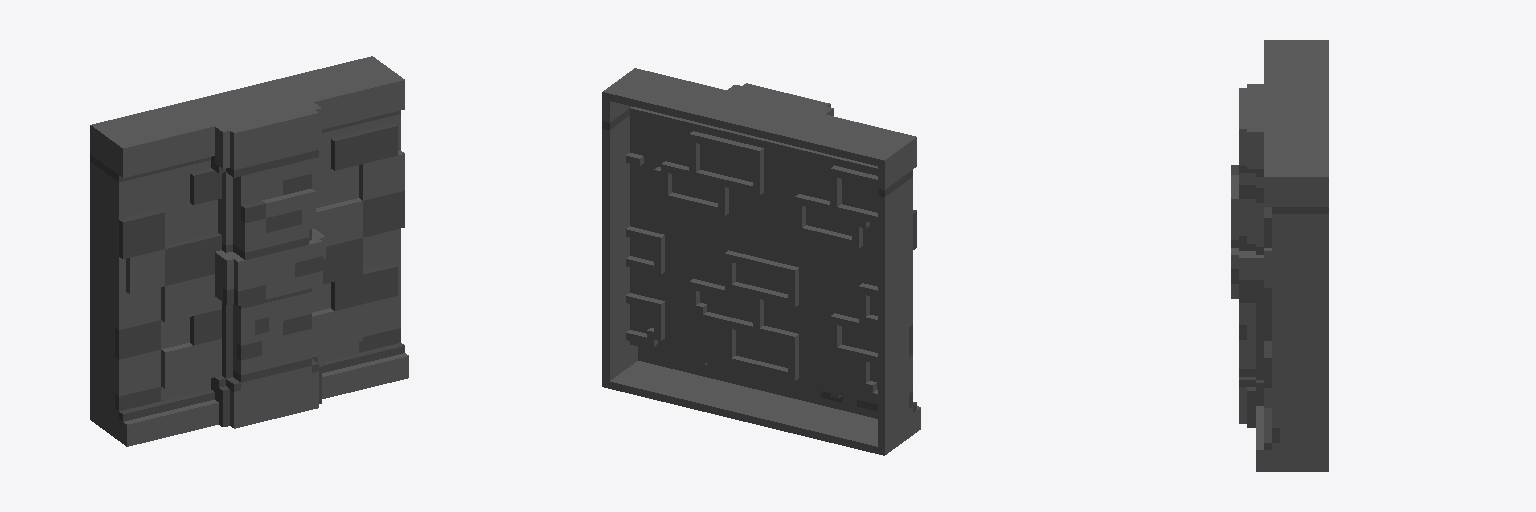
3 renders of one model, left to right at view 1: azimuth 30°, elevation 25°; view 2: azimuth 150°, elevation 25°; view 3: azimuth 270°, elevation 25°, orthographic.
Visible parts, largest first — view 1: object 1; view 2: object 1; view 3: object 1.
Part boxes in pixels (x1,y1,x2,y2): object 1: (90,56,408,446); object 1: (602,68,920,455); object 1: (1231,40,1328,471).
Bounding box in the file's own units: 4 × 4 × 1.2.
1 materials, 1 textured.